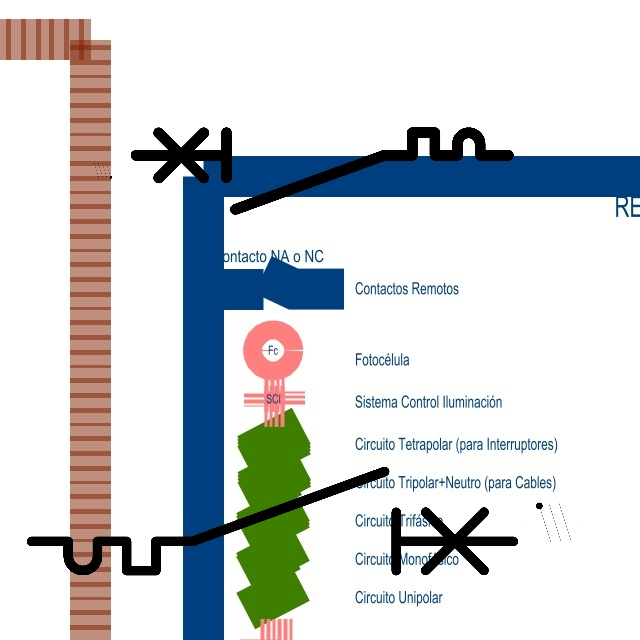interruptor_termomagnetico: (19, 459, 525, 583), (126, 123, 518, 219)
